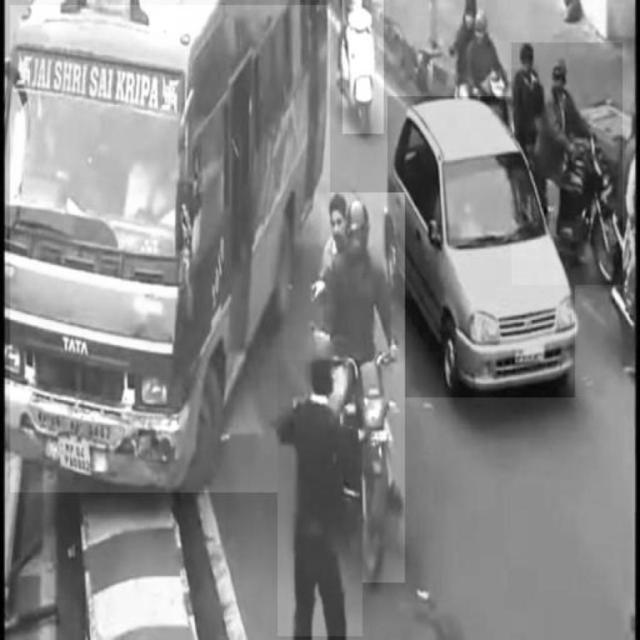person: (278, 360, 362, 636)
vehicle: (11, 6, 331, 493), (388, 97, 575, 398), (322, 194, 405, 584), (512, 42, 623, 284), (343, 0, 384, 134)
